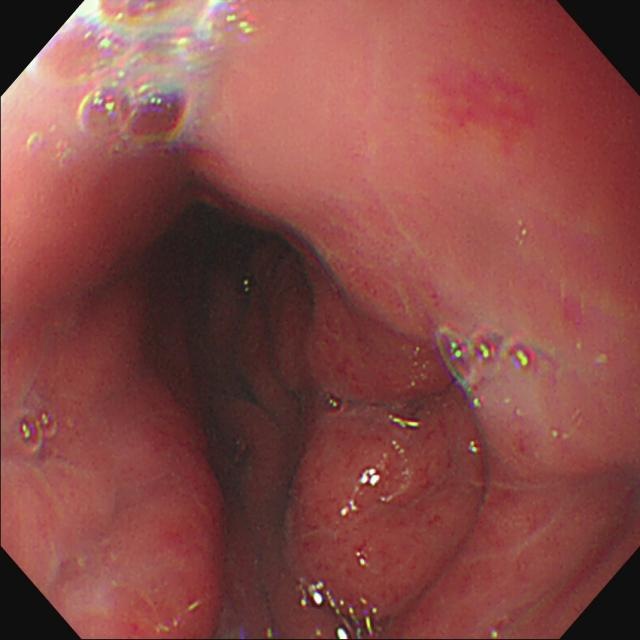A: (284, 408, 501, 621), (298, 235, 443, 406), (438, 59, 540, 149)
E: (175, 203, 274, 281)
T: (77, 83, 187, 141), (14, 411, 60, 453)
U: (2, 2, 260, 153), (436, 328, 537, 407), (299, 578, 380, 640)
